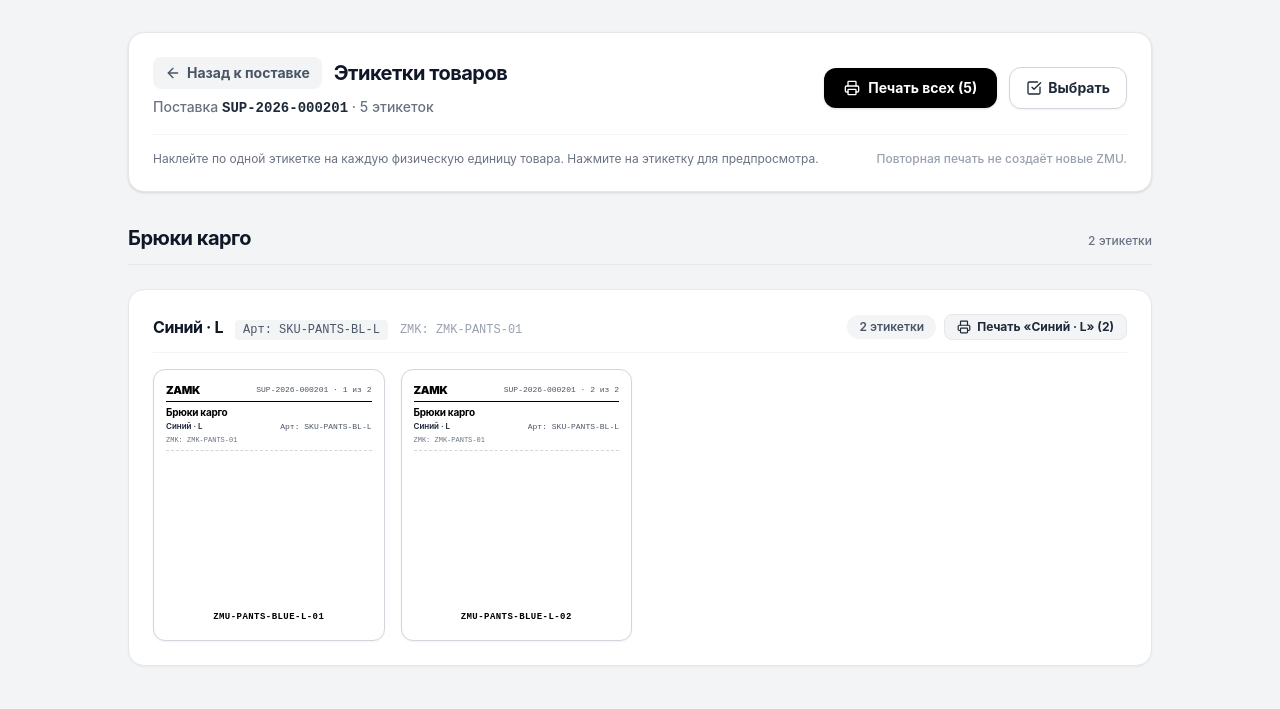
Test case: SellerSupplyUnitLabels Component (SUP.2A1, SUP.2A2 & SUP.2A3) › G, H, P: variant group print prints only that variant and marks all units in it printRequested
Click the button with aria-label "Печать группы: Синий · L": click(1036, 327) x1=944 y1=314 x2=1127 y2=340
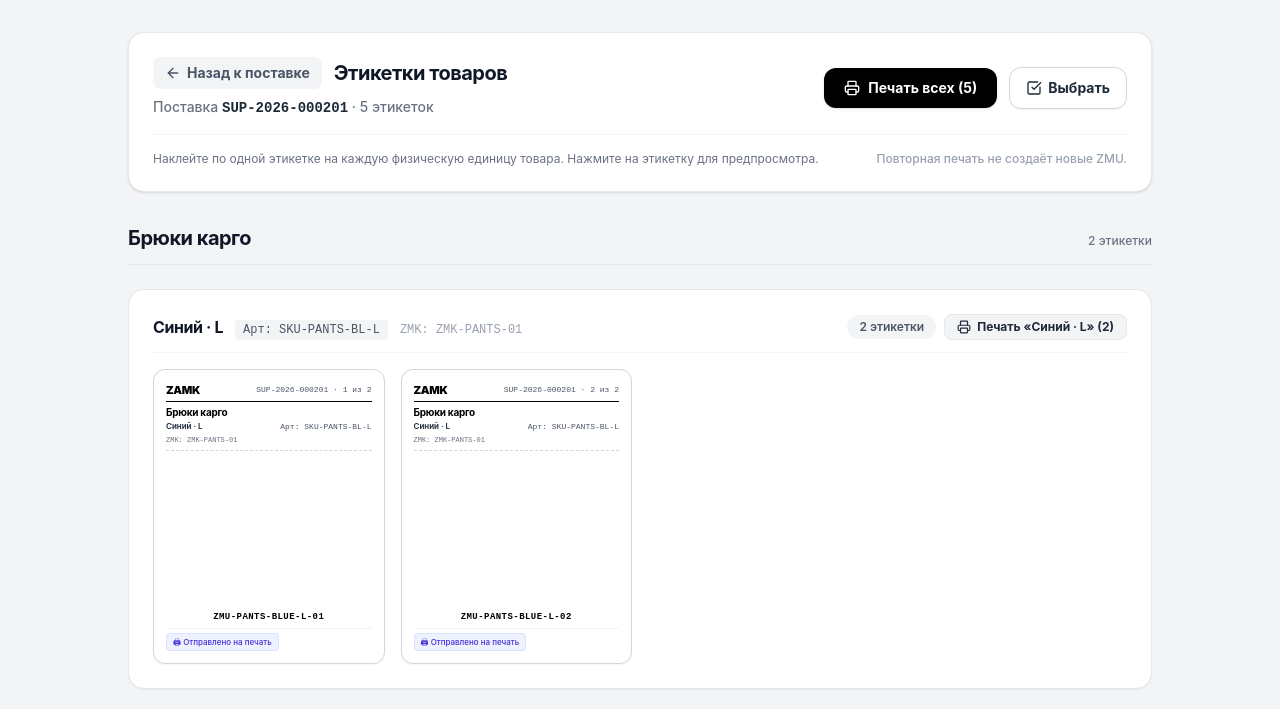
Expected: the text "ZMU-JACKET-RED-M-01" does not show "Отправлено на печать"
Now the text "ZMU-PANTS-BLUE-L-01" shows "Отправлено на печать", box x1=173 y1=637 x2=272 y2=647
Now the text "ZMU-PANTS-BLUE-L-02" shows "Отправлено на печать", box x1=420 y1=637 x2=519 y2=647
